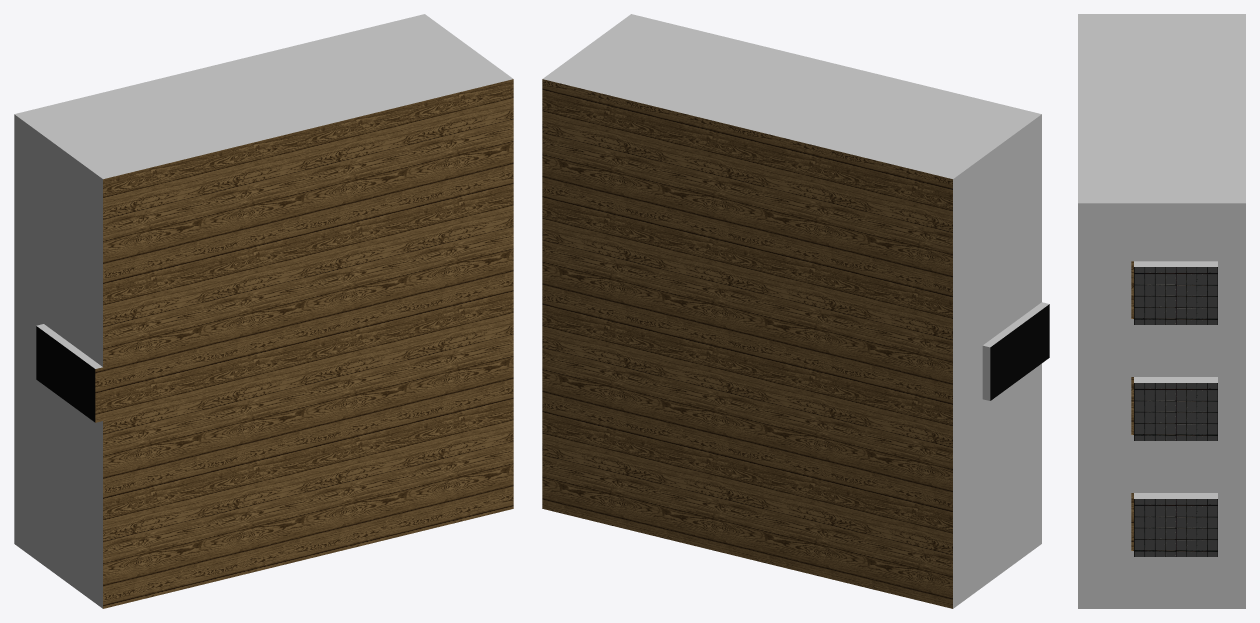
Rendered from walls.fbx.
3 views of the same model, side by side, from view 1: azimuth 30°, elevation 25°; view 2: azimuth 150°, elevation 25°; view 3: azimuth 270°, elevation 25° (orthographic). The views are drawn at different scales.
Parts seen in each view (by area): view 1: walls; view 2: walls; view 3: walls.
Boxes of the visible parts, bbox=[...] form: walls: bbox=[14, 14, 513, 608]; walls: bbox=[542, 14, 1049, 608]; walls: bbox=[1078, 14, 1245, 608].
Bounding box in the file's own units: 8.4 × 8 × 3.
